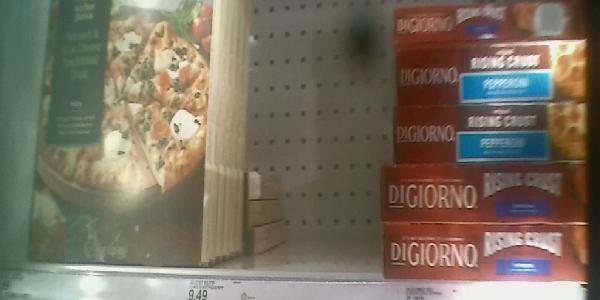pizza1: (32, 1, 215, 265)
pizza2: (382, 220, 587, 286), (399, 41, 591, 107), (381, 162, 588, 219), (394, 101, 589, 161), (392, 1, 589, 48)
